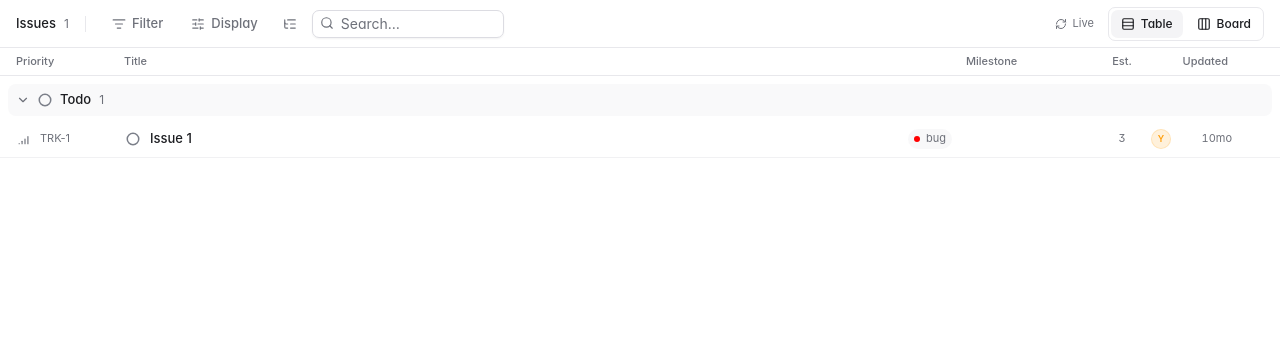
Test: inline edit in the table › puts the row back and says so when the save fails
This screenshot has width=1280, height=343.
Click the button named "Change priority of TRK-1".
click(25, 138)  # box [16,130,34,148]
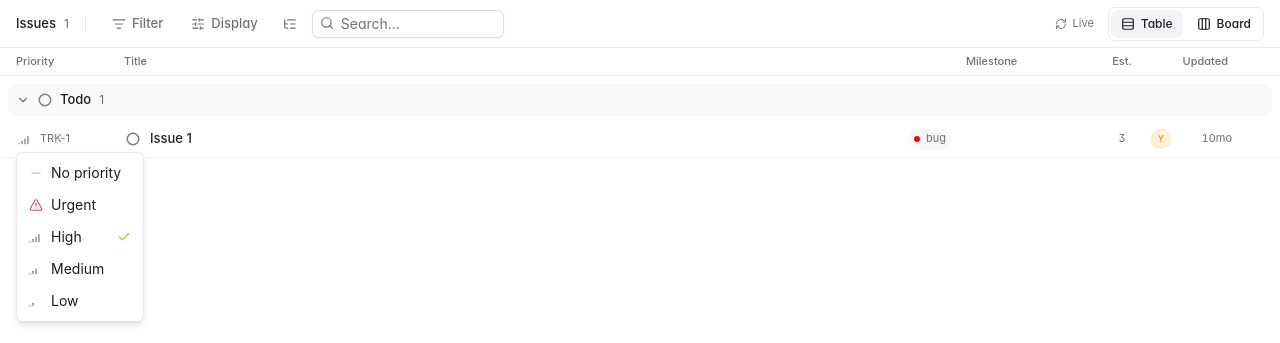
Click the menu item "Low".
click(54, 300)  # box [29,292,78,309]
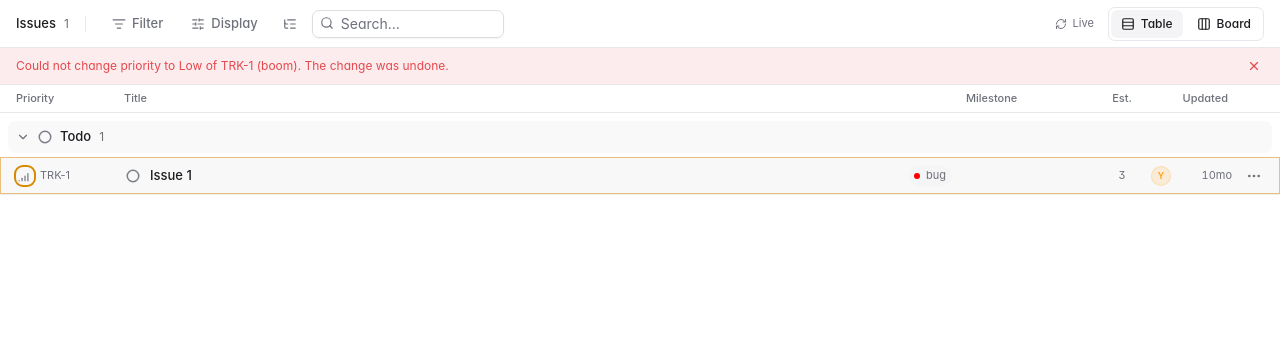
Expected: the message shows "Could not change priority to Low of TRK-1 (boom)", [0,48,1279,85]
